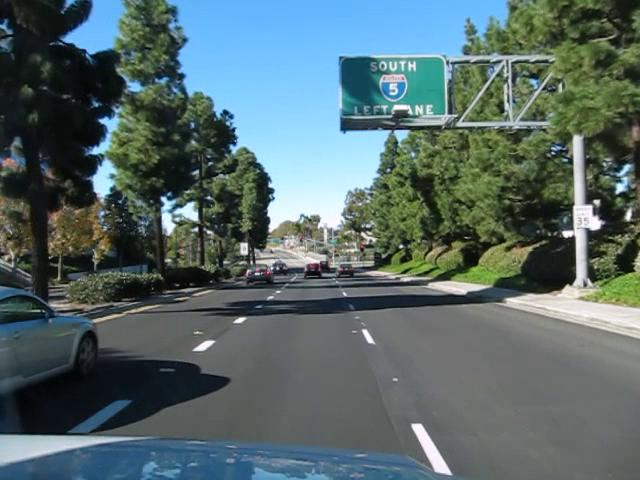speedLimit35: (573, 204, 592, 228)
